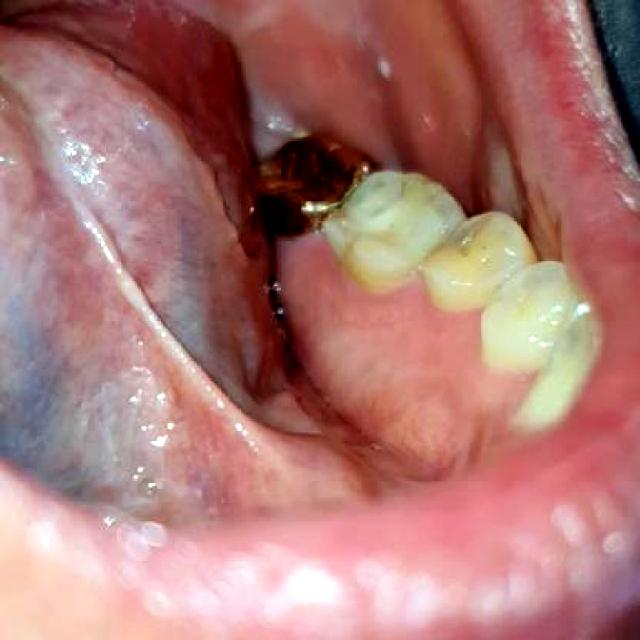Plaque: (340, 223, 370, 255), (449, 235, 476, 258)
